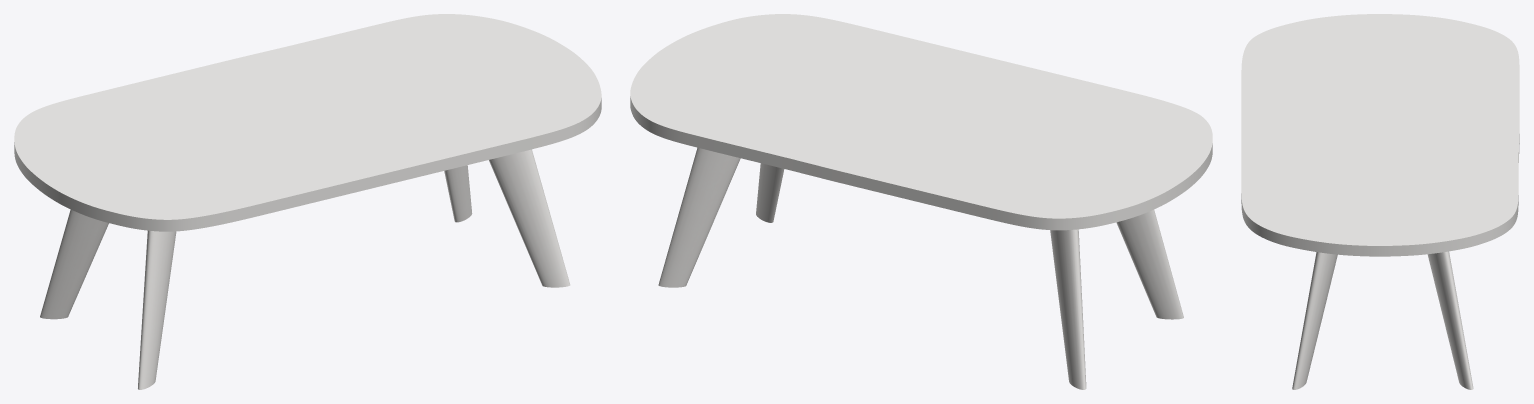
The model's file is purewhite_oval_standard_ferdinantwalnut.glb.
3 views of the same model, side by side, from view 1: azimuth 30°, elevation 25°; view 2: azimuth 150°, elevation 25°; view 3: azimuth 270°, elevation 25° (orthographic). The views are drawn at different scales.
Visible parts, largest first — view 1: standard_oval, ferdinandwalnut; view 2: standard_oval, ferdinandwalnut; view 3: standard_oval, ferdinandwalnut.
Part boxes in pixels (x1=…): standard_oval: x1=14, y1=14, x2=601, y2=231; ferdinandwalnut: x1=40, y1=149, x2=570, y2=389; standard_oval: x1=630, y1=14, x2=1212, y2=230; ferdinandwalnut: x1=658, y1=147, x2=1183, y2=389; standard_oval: x1=1241, y1=14, x2=1519, y2=256; ferdinandwalnut: x1=1292, y1=251, x2=1473, y2=389.
Bounding box in the file's own units: 7.5 × 2.51 × 3.8.
Materials: 1 (1 with a texture image).
